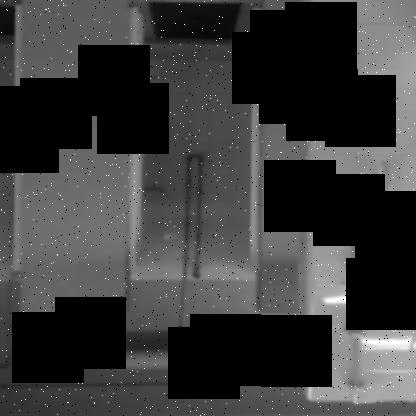Porte: (123, 1, 265, 276)
